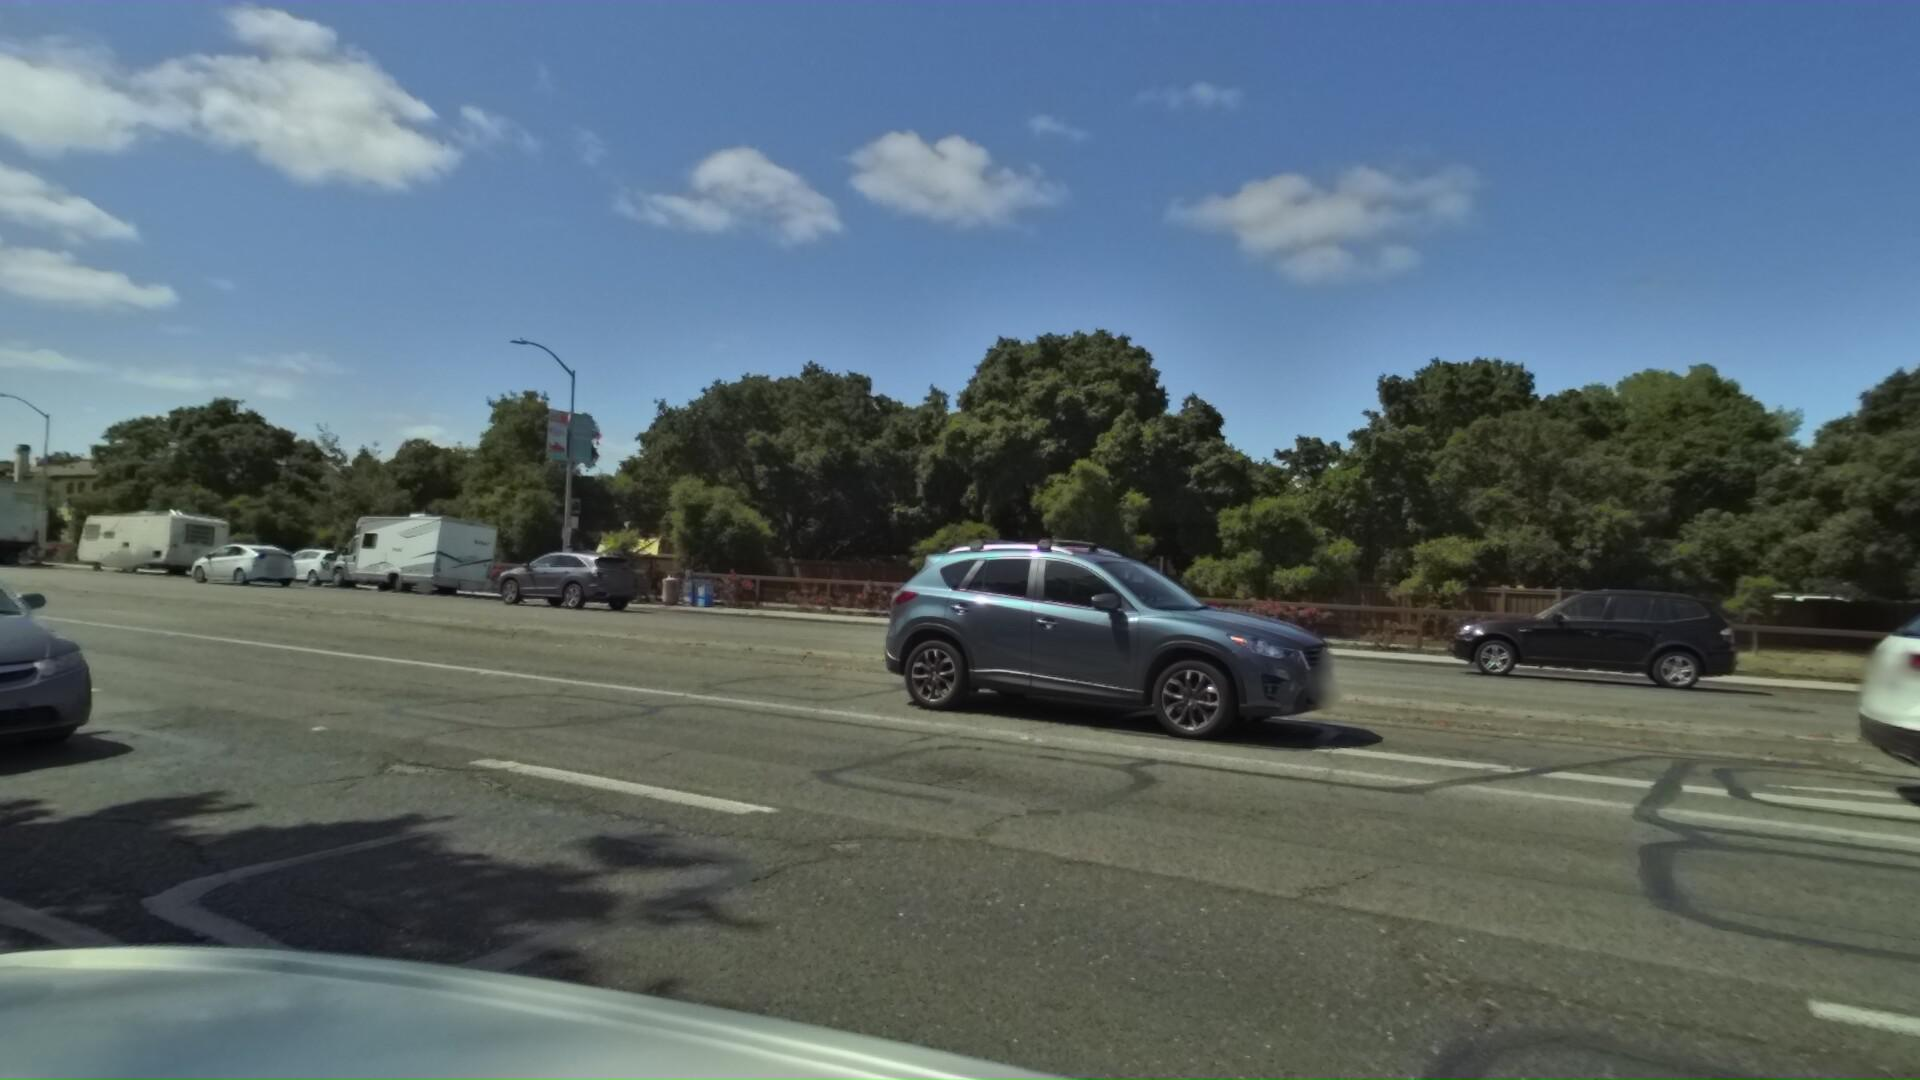car: (825, 527, 1313, 767), (1759, 535, 1920, 957), (1387, 572, 1673, 694), (0, 516, 117, 810), (465, 541, 626, 612), (175, 537, 297, 585), (264, 545, 363, 589)
other_vehicle: (309, 506, 498, 600), (73, 502, 239, 579), (0, 493, 58, 574)
truck: (0, 471, 50, 564)
